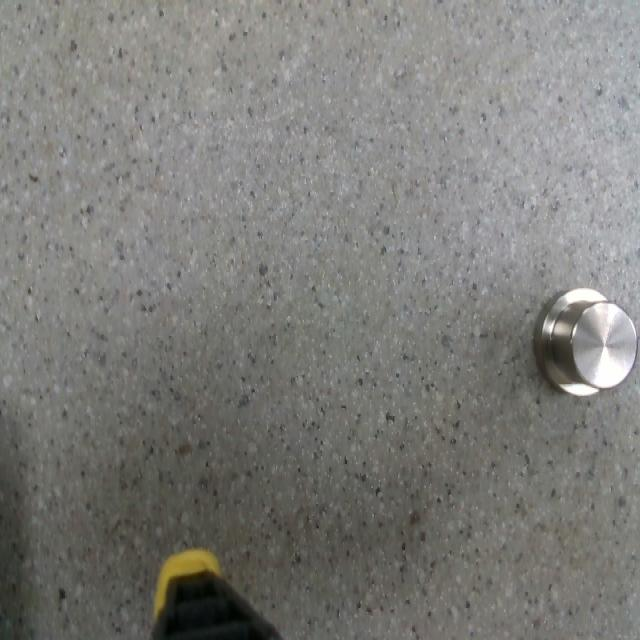sensor: (530, 286, 636, 395)
